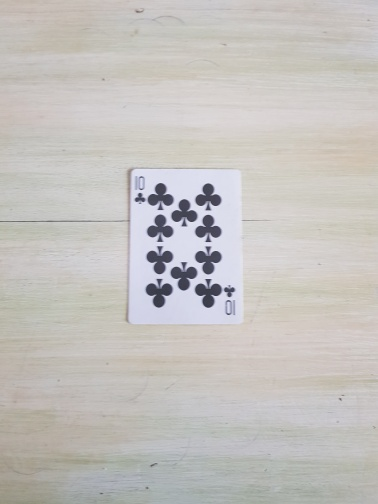ten: (126, 167, 246, 327)
